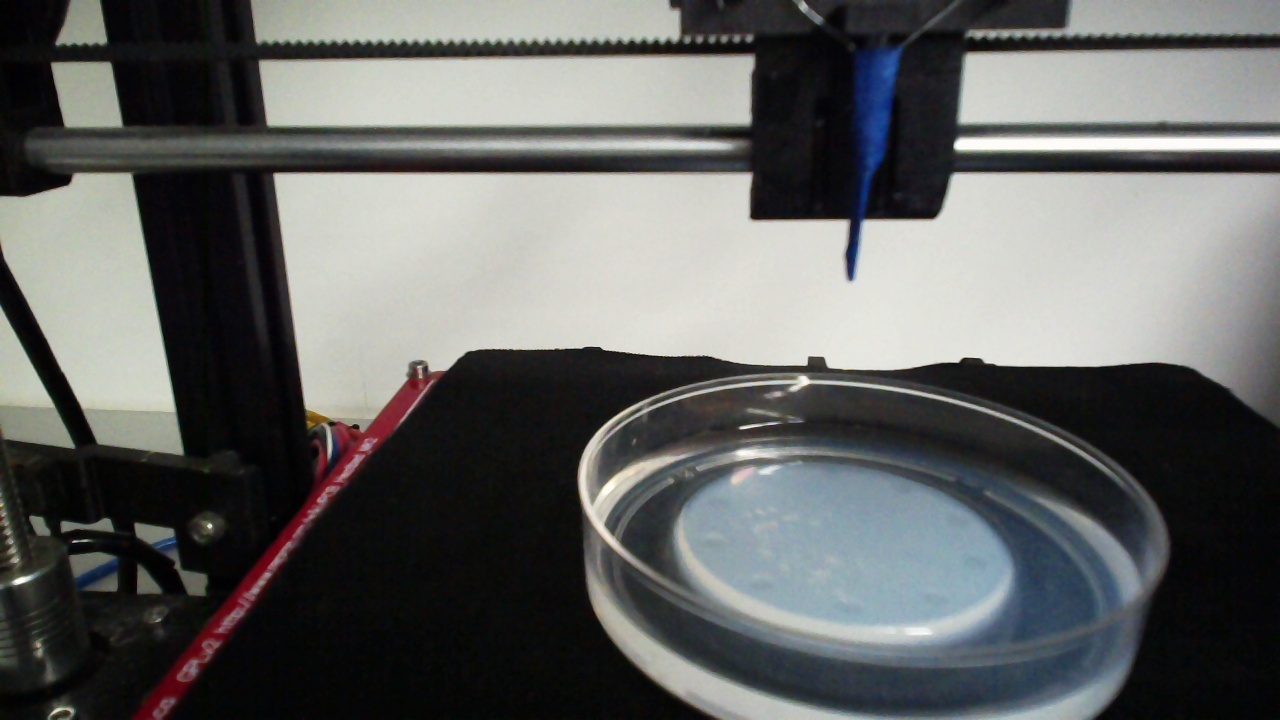groove: (960, 550, 992, 577), (820, 461, 856, 484), (920, 585, 953, 609), (833, 599, 865, 623), (745, 573, 778, 596), (698, 530, 729, 554), (942, 508, 972, 532), (887, 475, 915, 500), (702, 491, 732, 512)
needle: (846, 51, 899, 280)
